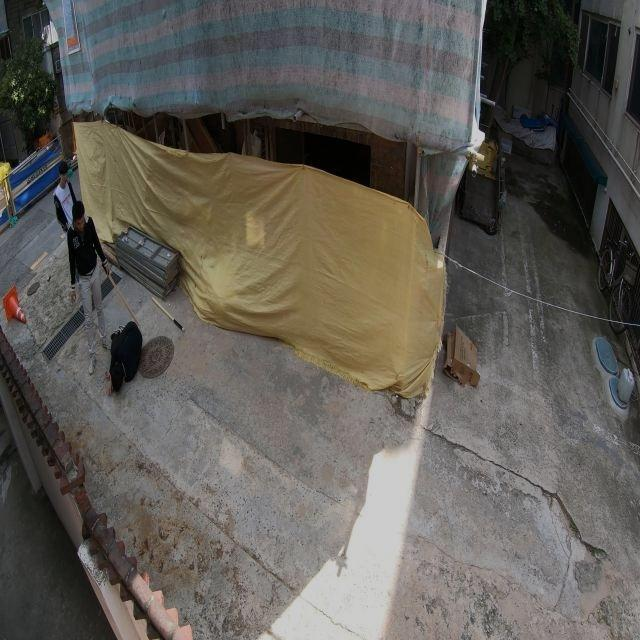fight: (64, 196, 145, 396)
